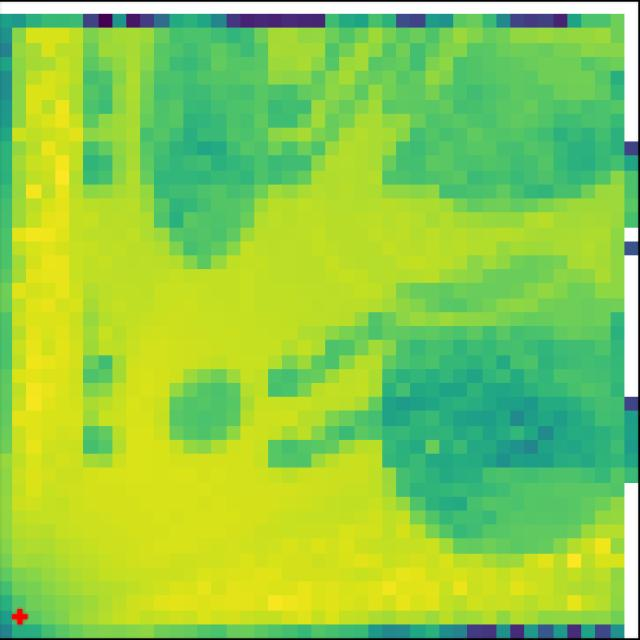Concrete: (134, 43, 276, 268)
Glass: (157, 361, 245, 454)
Metal: (411, 59, 607, 209)
Wood: (391, 328, 611, 508)
